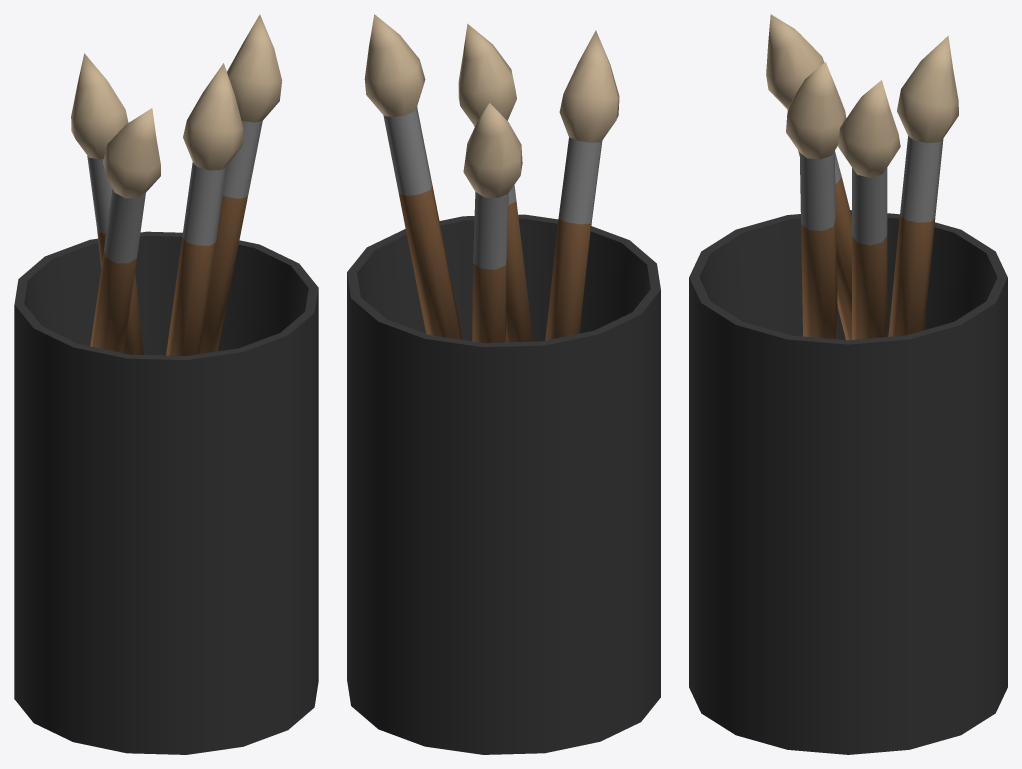
The model's file is PaintBrushes.fbx.
3 views of the same model, side by side, from view 1: azimuth 30°, elevation 25°; view 2: azimuth 150°, elevation 25°; view 3: azimuth 270°, elevation 25° (orthographic). The views are drawn at different scales.
Parts seen in each view (by area): view 1: PaintBrushes; view 2: PaintBrushes; view 3: PaintBrushes.
Boxes of the visible parts, x1,y1,x2,y2 form: PaintBrushes: [14, 14, 318, 754]; PaintBrushes: [347, 14, 660, 754]; PaintBrushes: [689, 14, 1007, 754].
Size of the model in its own units: 0.1725 by 0.3962 by 0.1725.
